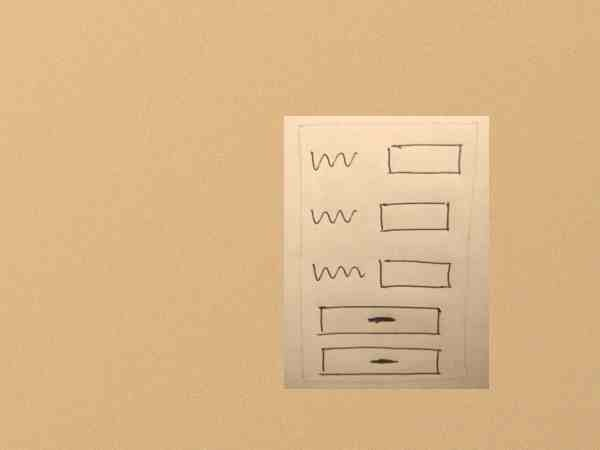button: (314, 302, 443, 339), (313, 343, 444, 379)
text: (308, 257, 369, 289), (306, 147, 360, 171), (306, 205, 360, 226)
text_input: (381, 138, 467, 182), (374, 256, 455, 295), (377, 200, 454, 236)
